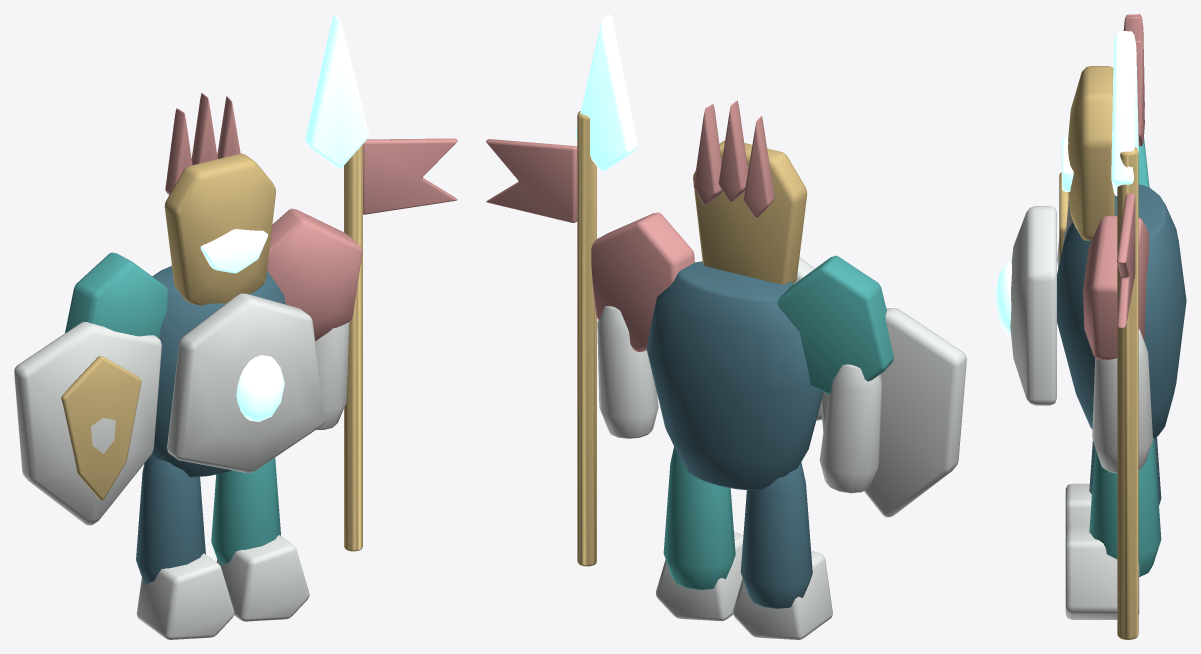
The model's file is vault-sentinel-authored-v4.glb.
3 renders of one model, left to right at view 1: azimuth 30°, elevation 25°; view 2: azimuth 150°, elevation 25°; view 3: azimuth 270°, elevation 25°, orthographic. The views are drawn at different scales.
Visible parts, largest first — view 1: GB_CORE_SentinelBreastplate, GB_CORE_SentinelMask, GB_CORE_SentinelShoulderL, GB_CORE_SentinelTorso, GB_CORE_SentinelShoulderR, GB_CORE_SentinelVisor, GB_CORE_SentinelSpear, GB_CORE_SentinelCore; view 2: GB_CORE_SentinelTorso, GB_CORE_SentinelBreastplate, GB_CORE_SentinelShoulderL, GB_CORE_SentinelShoulderR, GB_CORE_SentinelMask, GB_CORE_SentinelSpear, GB_CORE_SentinelVisor; view 3: GB_CORE_SentinelBreastplate, GB_CORE_SentinelTorso, GB_CORE_SentinelSpear, GB_CORE_SentinelShoulderL, GB_CORE_SentinelMask, GB_CORE_SentinelShoulderR, GB_CORE_SentinelVisor, GB_CORE_SentinelCore.
Part boxes in pixels (x1,y1,x2,y2): GB_CORE_SentinelBreastplate: (14,293,349,639); GB_CORE_SentinelMask: (61,153,275,500); GB_CORE_SentinelShoulderL: (165,93,457,341); GB_CORE_SentinelTorso: (136,266,285,583); GB_CORE_SentinelShoulderR: (65,252,280,565); GB_CORE_SentinelVisor: (200,14,368,273); GB_CORE_SentinelSpear: (344,144,362,551); GB_CORE_SentinelCore: (236,355,284,421); GB_CORE_SentinelTorso: (646,261,823,608); GB_CORE_SentinelBreastplate: (597,257,966,639); GB_CORE_SentinelShoulderL: (486,100,774,351); GB_CORE_SentinelShoulderR: (663,255,893,589); GB_CORE_SentinelMask: (693,140,807,284); GB_CORE_SentinelSpear: (577,111,596,566); GB_CORE_SentinelVisor: (575,14,637,171); GB_CORE_SentinelBreastplate: (1010,197,1152,619); GB_CORE_SentinelTorso: (1057,184,1186,505); GB_CORE_SentinelSpear: (1117,147,1138,639); GB_CORE_SentinelShoulderL: (1083,14,1148,360); GB_CORE_SentinelMask: (1059,66,1114,262); GB_CORE_SentinelShoulderR: (1089,138,1161,576); GB_CORE_SentinelVisor: (1062,31,1138,195); GB_CORE_SentinelCore: (995,259,1011,336).
Bounding box in the file's own units: 2.04 × 2.45 × 0.6745.
